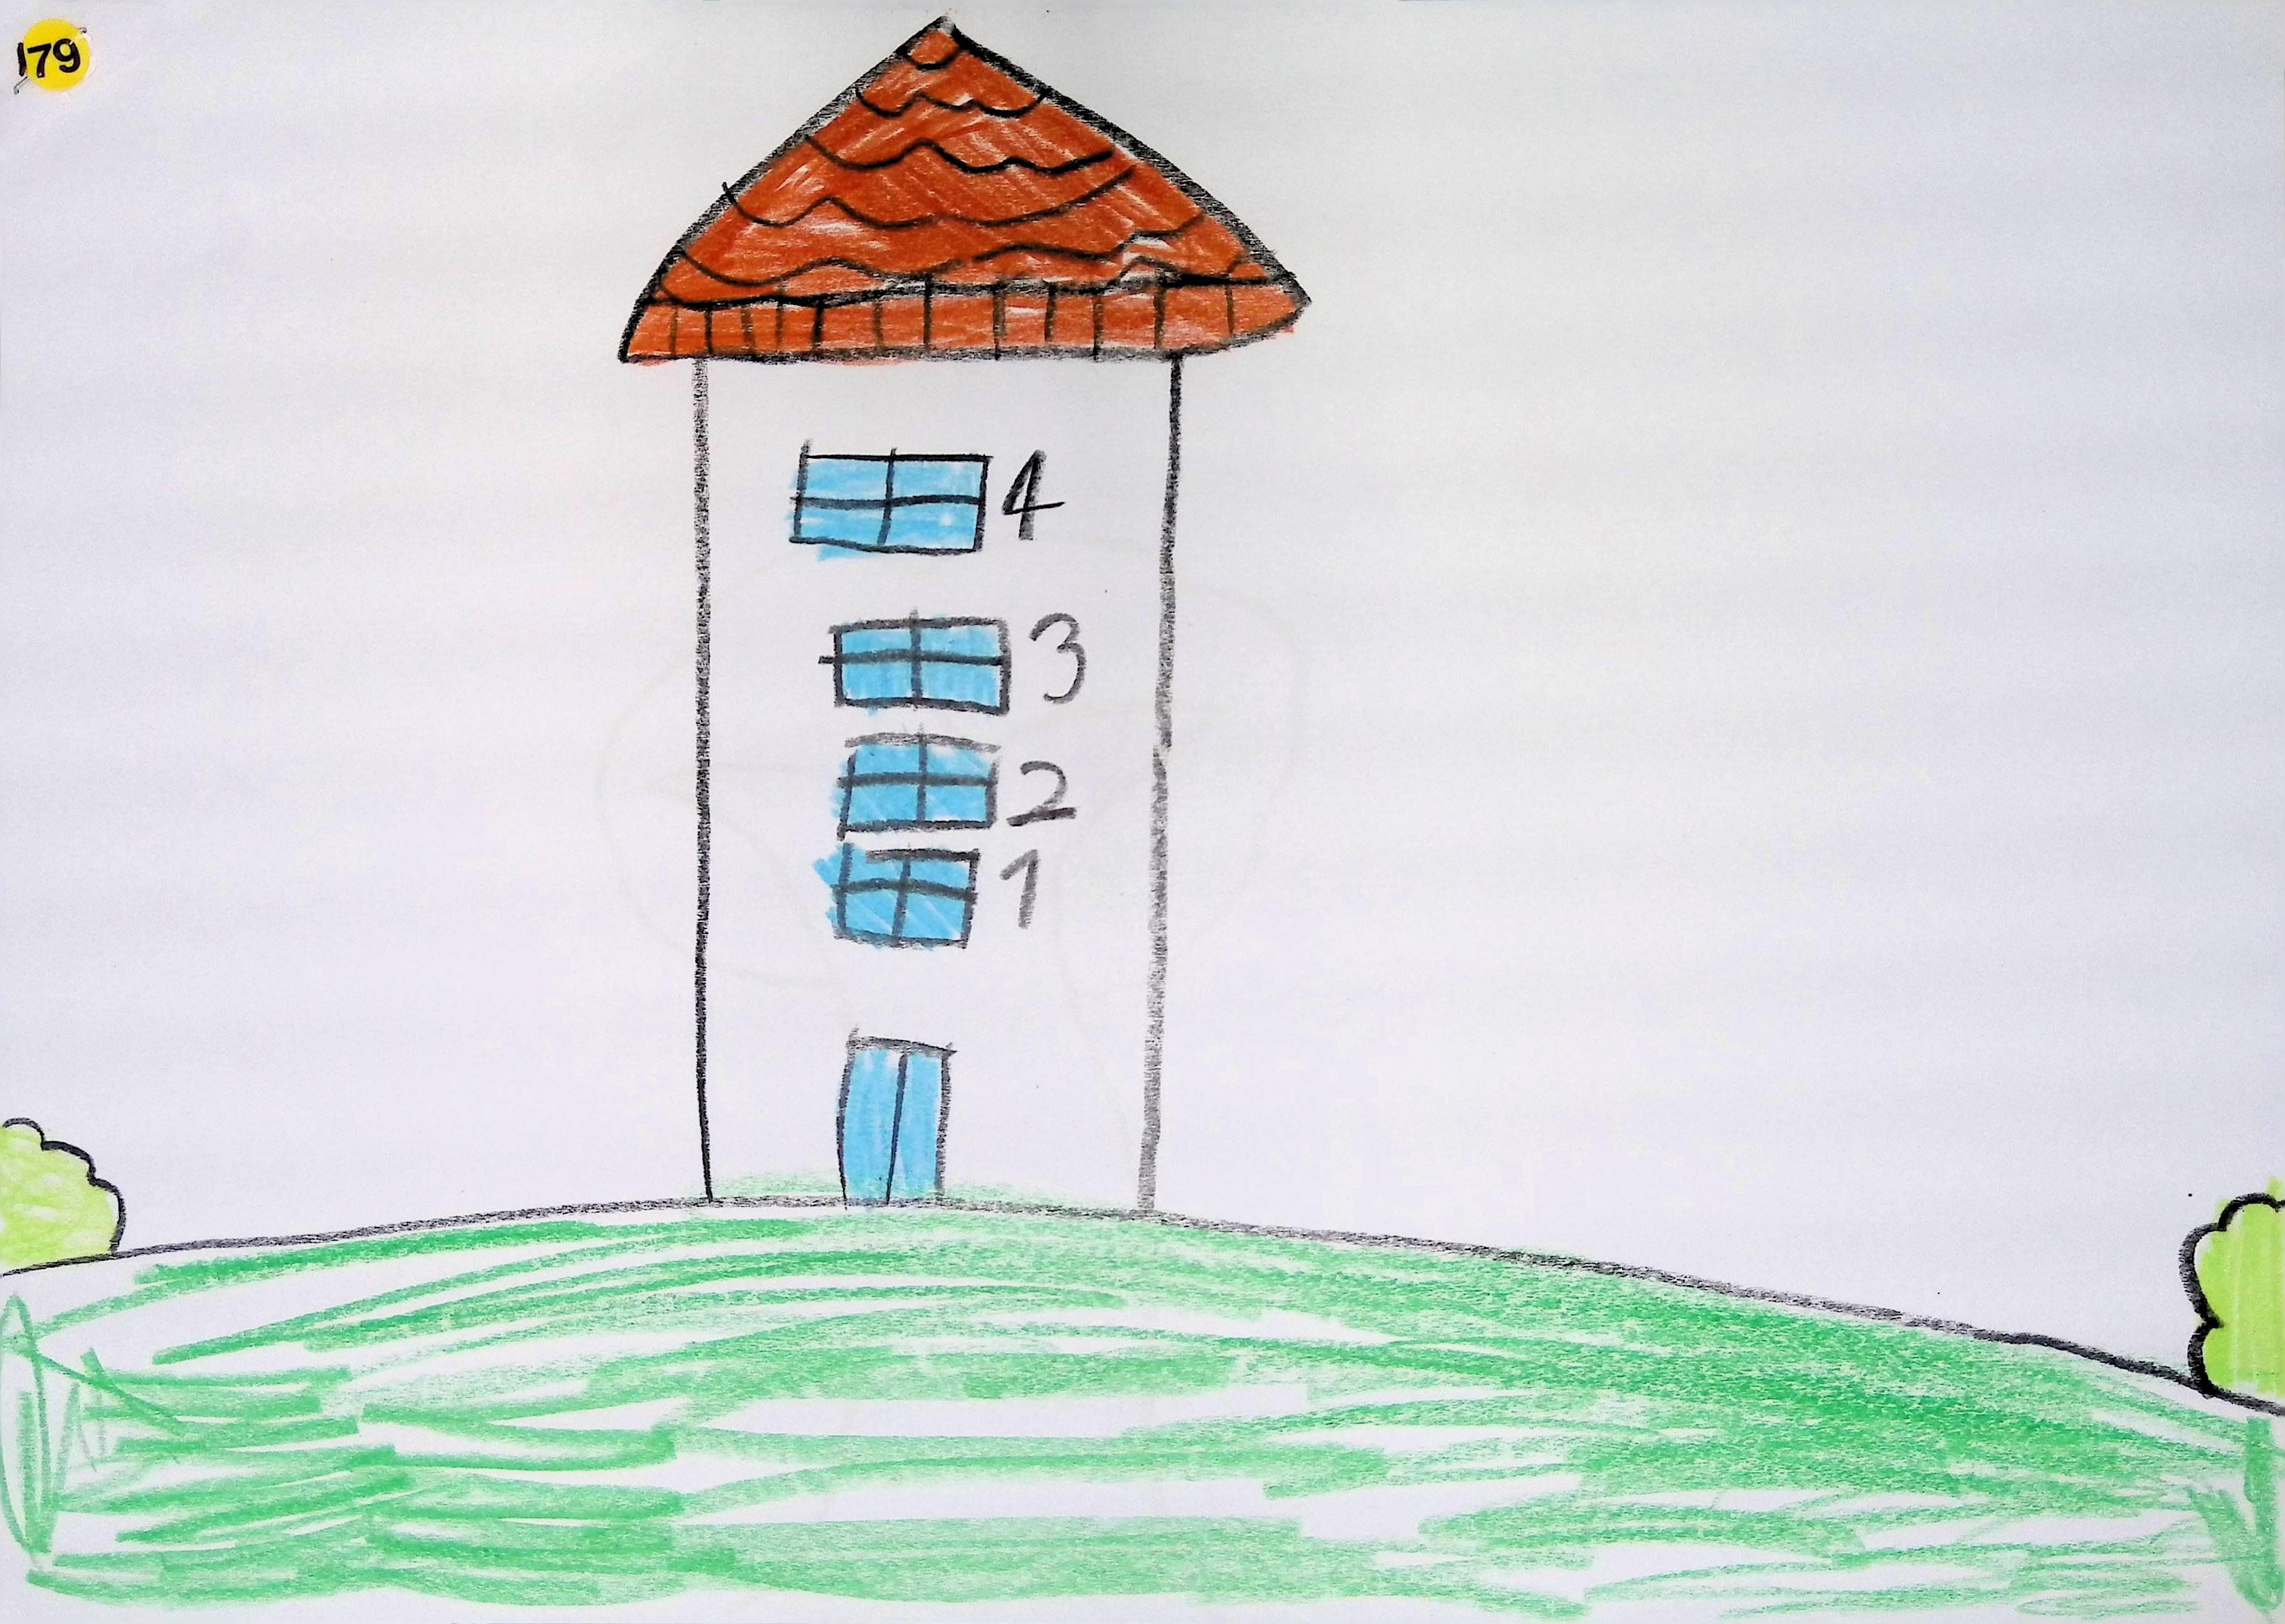door: (837, 1035, 953, 1204)
house: (619, 14, 1308, 1216)
roof: (619, 14, 1308, 360)
wall: (705, 357, 1167, 1204)
window: (789, 441, 990, 557), (821, 613, 1011, 714), (833, 733, 997, 837), (816, 844, 977, 947)
